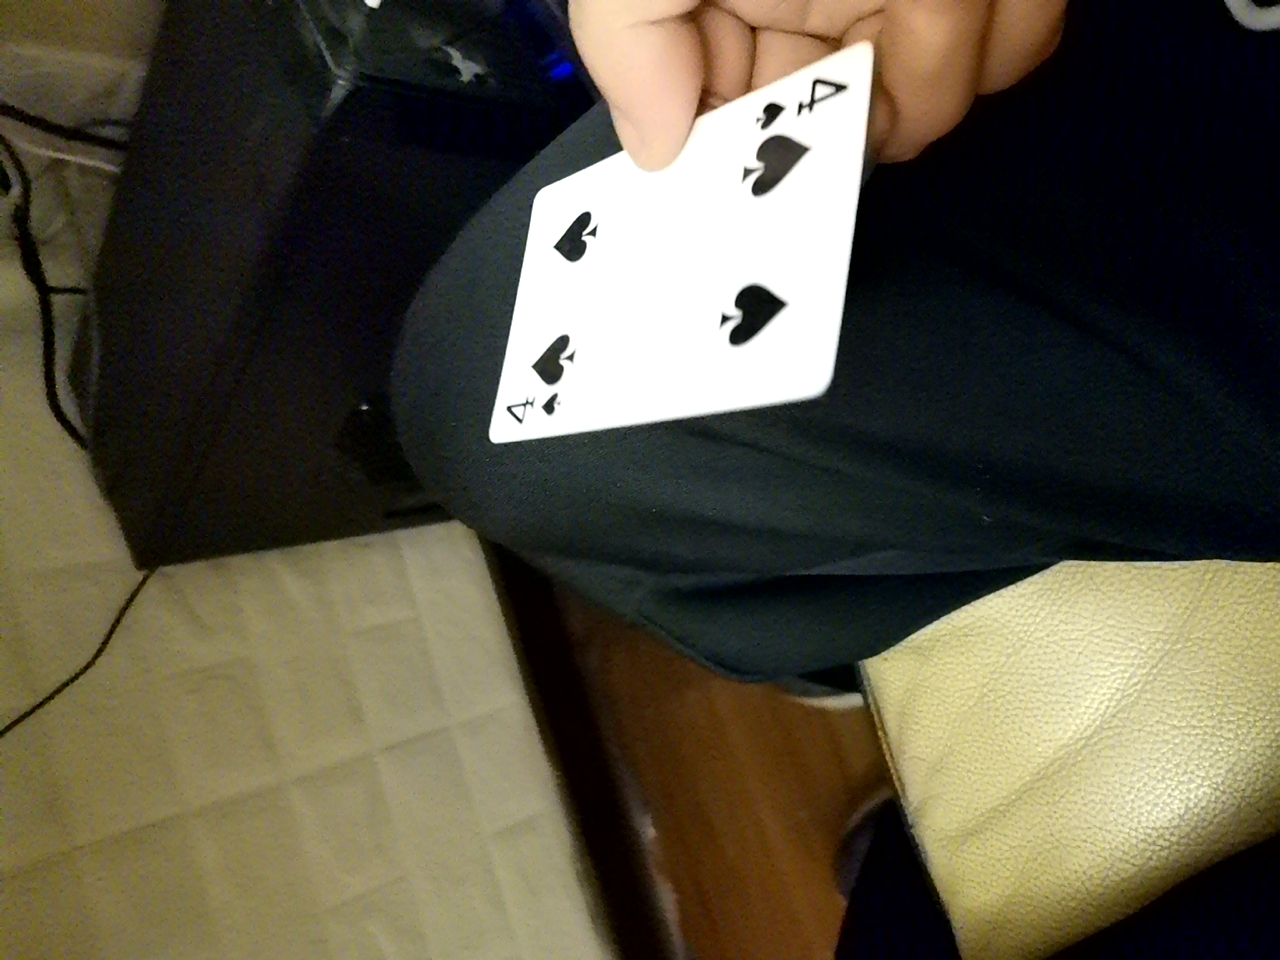ht 4: (470, 82, 874, 468)
